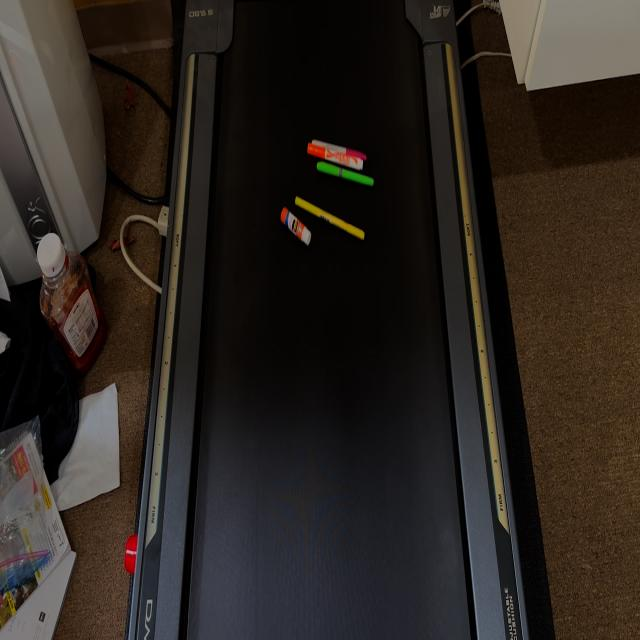Trash: (277, 189, 368, 255), (302, 133, 376, 187)
